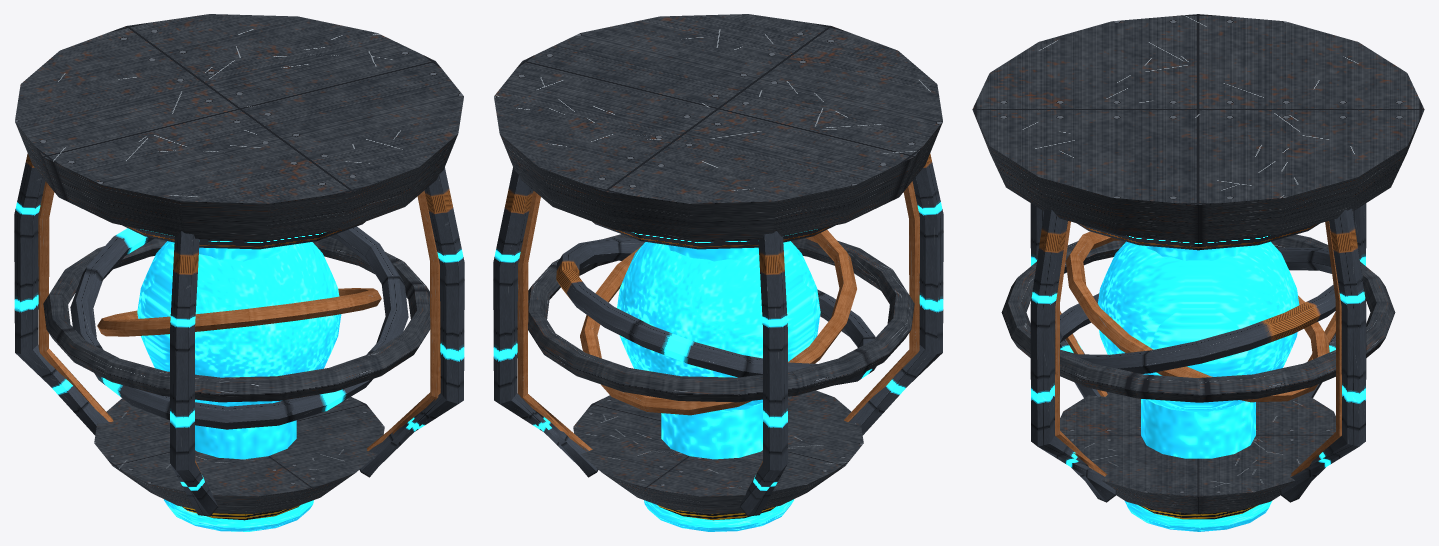
File: plasma_core_reactor_asset.glb
The picture shows the model from 3 angles, left to right: view 1: azimuth 30°, elevation 25°; view 2: azimuth 150°, elevation 25°; view 3: azimuth 270°, elevation 25°; orthographic projection.
Visible parts, largest first — view 1: reactor_nucleo; view 2: reactor_nucleo; view 3: reactor_nucleo.
Part boxes in pixels (x1,y1,x2,y2): reactor_nucleo: [14, 14, 464, 531]; reactor_nucleo: [493, 14, 943, 531]; reactor_nucleo: [972, 14, 1424, 531].
Size of the model in its own units: 5.1 by 4.87 by 5.1.
Materials: 5 (5 with a texture image).
